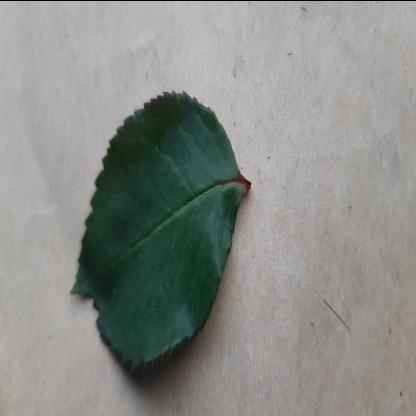normal: (70, 86, 244, 384)
